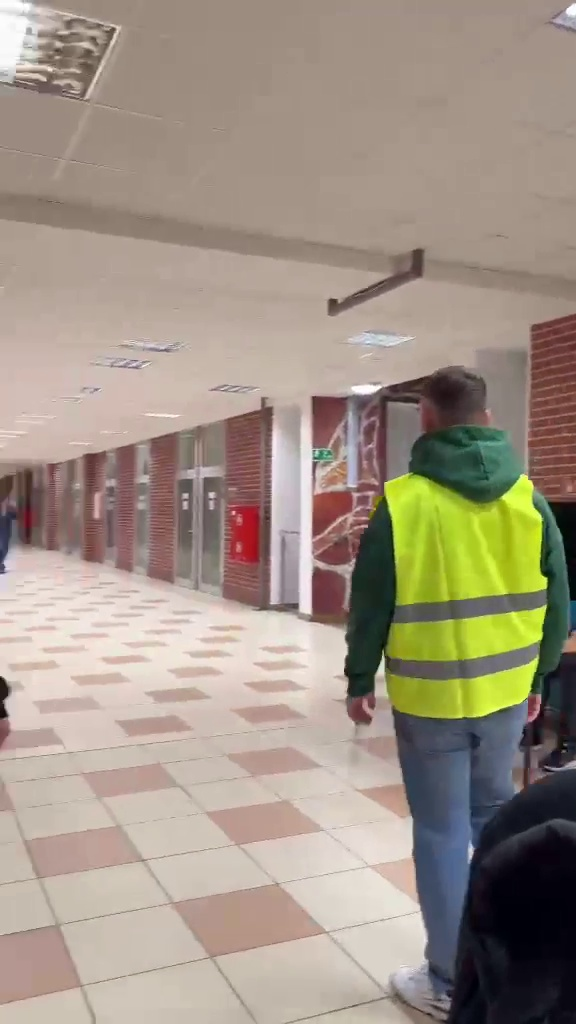vest: (340, 364, 576, 1014)
